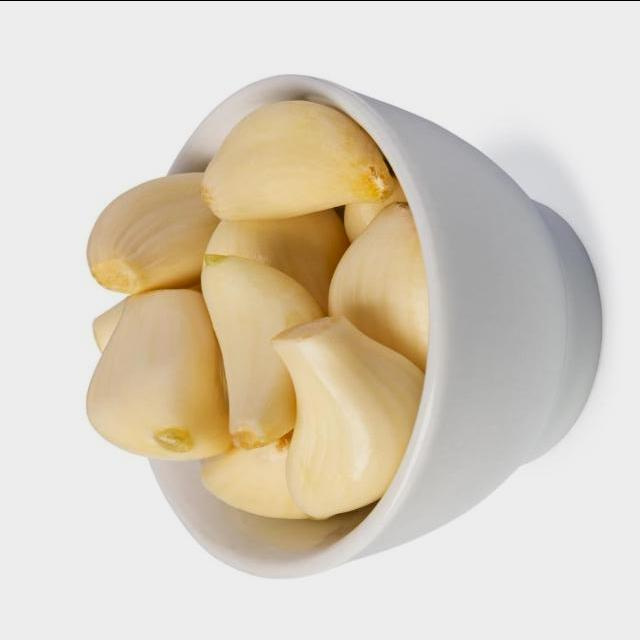garlic: (85, 96, 442, 520)
